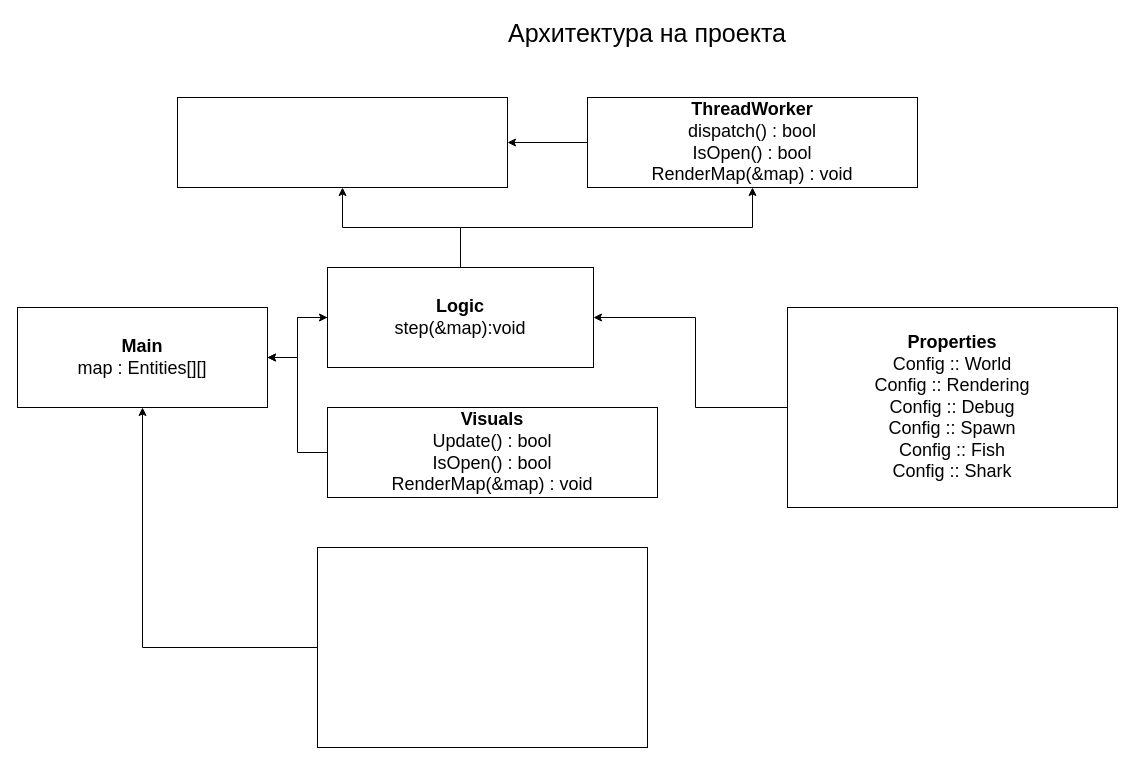
Image size: 1135x765. Some labels were removed from this diagram. The box of each missing label's shape, as (x1, y1, x2, y2) in pixels:
Enteties type : int breading_timer : int energy : int moved : int: (316, 546, 648, 748)
Random_number seed : int next_int(int min, int max) : int: (176, 96, 508, 188)
